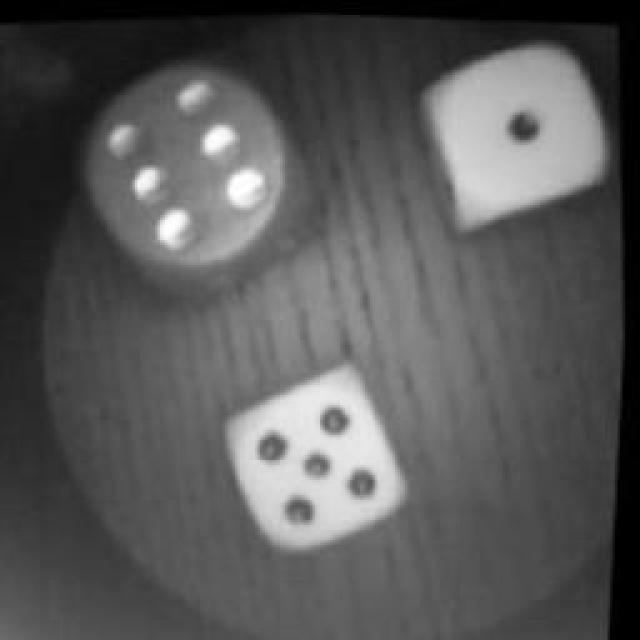dice_1: (410, 25, 625, 230)
dice_5: (218, 358, 424, 558)
dice_6: (75, 38, 320, 292)
